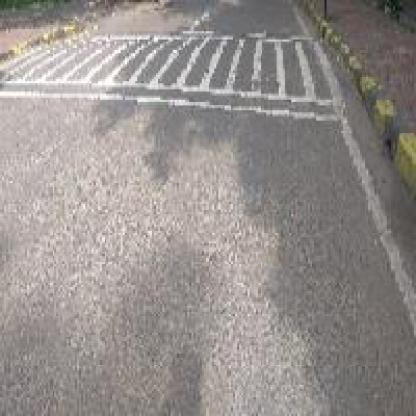Speed Bump: (2, 31, 337, 119)
